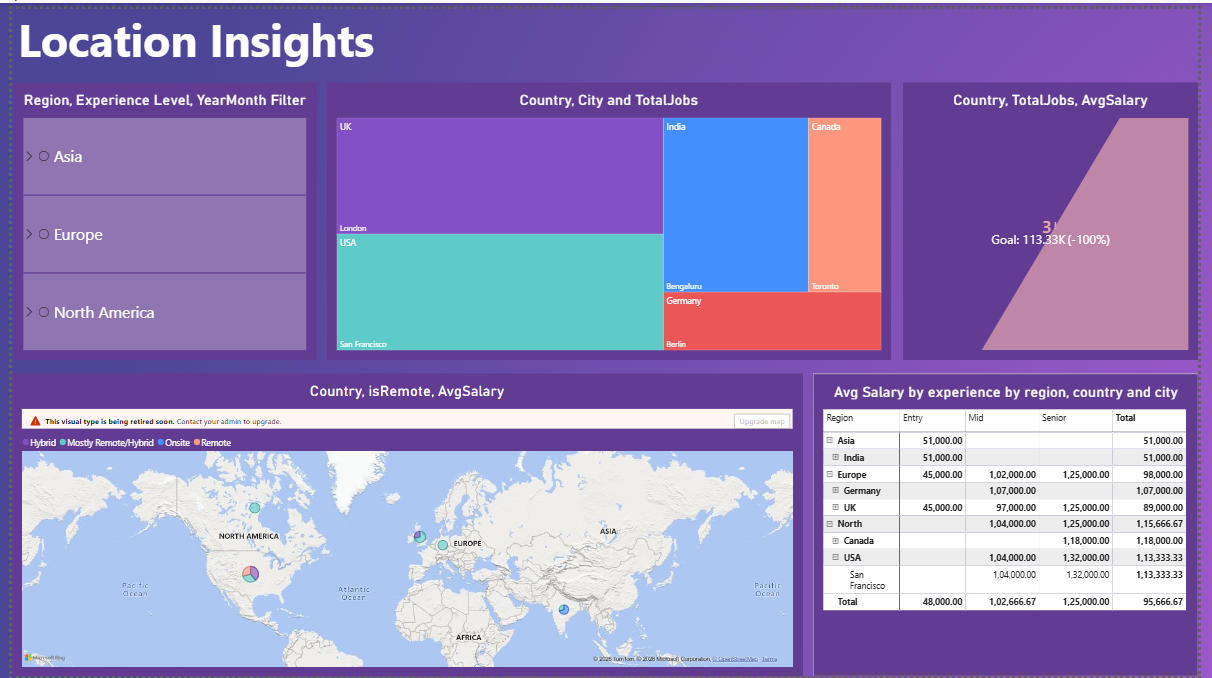

This screenshot's page, from the dashboard's own definition file:
{"tool":"powerbi","page":{"name":"Location Insights","canvas":[1920,1080],"ordinal":1},"visuals":[{"type":"textbox","box":[9.7,0,616.9,119],"z":0},{"type":"listSlicer","title":"Region, Experience Level, YearMonth Filter","fields":{"Values":["Dim_Locations.Region","Fact_Jobs.Experience_Level","Dim_Date.YearMonth"]},"box":[2.4,119,490.6,449.3],"z":1},{"type":"map","title":"Country, isRemote, AvgSalary","fields":{"Category":["Dim_Locations.Country"],"Series":["Fact_Jobs.IsRemote"],"Size":["Fact_Jobs.AvgSalaryByCountry"]},"box":[0,590.2,1280,490.6],"z":2},{"type":"kpi","title":"Country, TotalJobs, AvgSalary","fields":{"Goal":["Fact_Jobs.AvgSalaryByCountry"],"Indicator":["Fact_Jobs.TotalJobs"],"TrendLine":["Dim_Locations.Country"]},"box":[1442.7,119,478.5,449.3],"z":3},{"type":"treemap","title":"Country, City and TotalJobs","fields":{"Details":["Dim_Locations.City"],"Group":["Dim_Locations.Country"],"Values":["Fact_Jobs.TotalJobs"]},"box":[510.1,119,913.2,449.3],"z":4},{"type":"pivotTable","title":"Avg Salary by experience by region, country and city","fields":{"Columns":["Fact_Jobs.Experience_Level"],"Rows":["Dim_Locations.Region","Dim_Locations.Country","Dim_Locations.City"],"Values":["Fact_Jobs.AvgSalaryByCountry"]},"box":[1297,590.2,624.2,490.6],"z":5}]}

Visuals, with their boxes in screenshot pixels (x1, y1, x2, y2), scaled from the page's 1920x1080 canvas onto the 1212x678 screenshot:
textbox: {"x1": 6, "y1": 0, "x2": 396, "y2": 75}
"Region, Experience Level, YearMonth Filter" listSlicer: {"x1": 2, "y1": 75, "x2": 311, "y2": 357}
"Country, isRemote, AvgSalary" map: {"x1": 0, "y1": 371, "x2": 808, "y2": 677}
"Country, TotalJobs, AvgSalary" kpi: {"x1": 911, "y1": 75, "x2": 1211, "y2": 357}
"Country, City and TotalJobs" treemap: {"x1": 322, "y1": 75, "x2": 898, "y2": 357}
"Avg Salary by experience by region, country and city" pivotTable: {"x1": 819, "y1": 371, "x2": 1211, "y2": 677}
